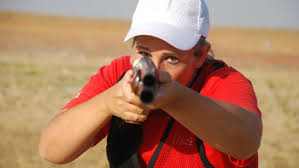weapon: (132, 59, 163, 111)
